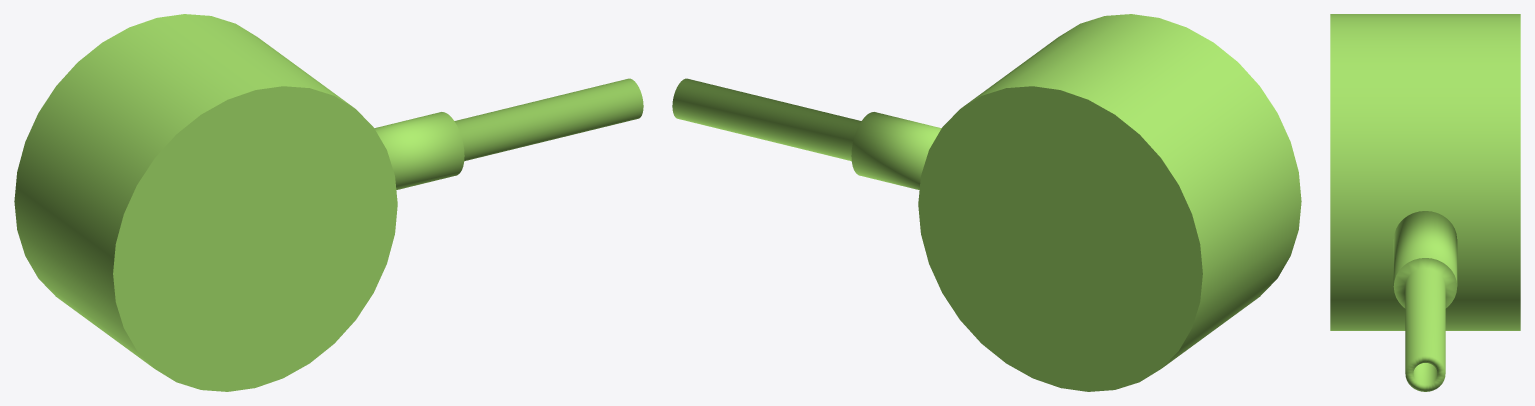
Rendered from TURRET_P.dae.
3 renders of one model, left to right at view 1: azimuth 30°, elevation 25°; view 2: azimuth 150°, elevation 25°; view 3: azimuth 270°, elevation 25°, orthographic. The views are drawn at different scales.
Visible parts, largest first — view 1: TURRET_P.001, BARREL.001; view 2: TURRET_P.001, BARREL.001; view 3: TURRET_P.001, BARREL.001.
Part boxes in pixels (x1,y1,x2,y2): TURRET_P.001: (14,14,397,391); BARREL.001: (374,78,643,189); TURRET_P.001: (918,14,1301,391); BARREL.001: (672,78,941,189); TURRET_P.001: (1330,14,1520,330); BARREL.001: (1393,211,1457,391).
Bounding box in the file's own units: 0.4 × 0.12 × 0.2.
